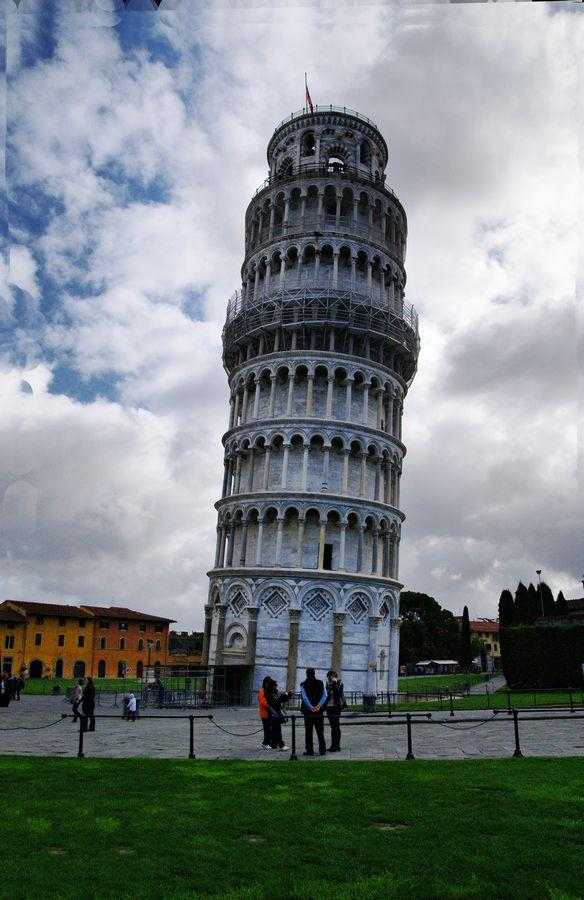Torre_di_Pisa: (194, 106, 423, 699)
